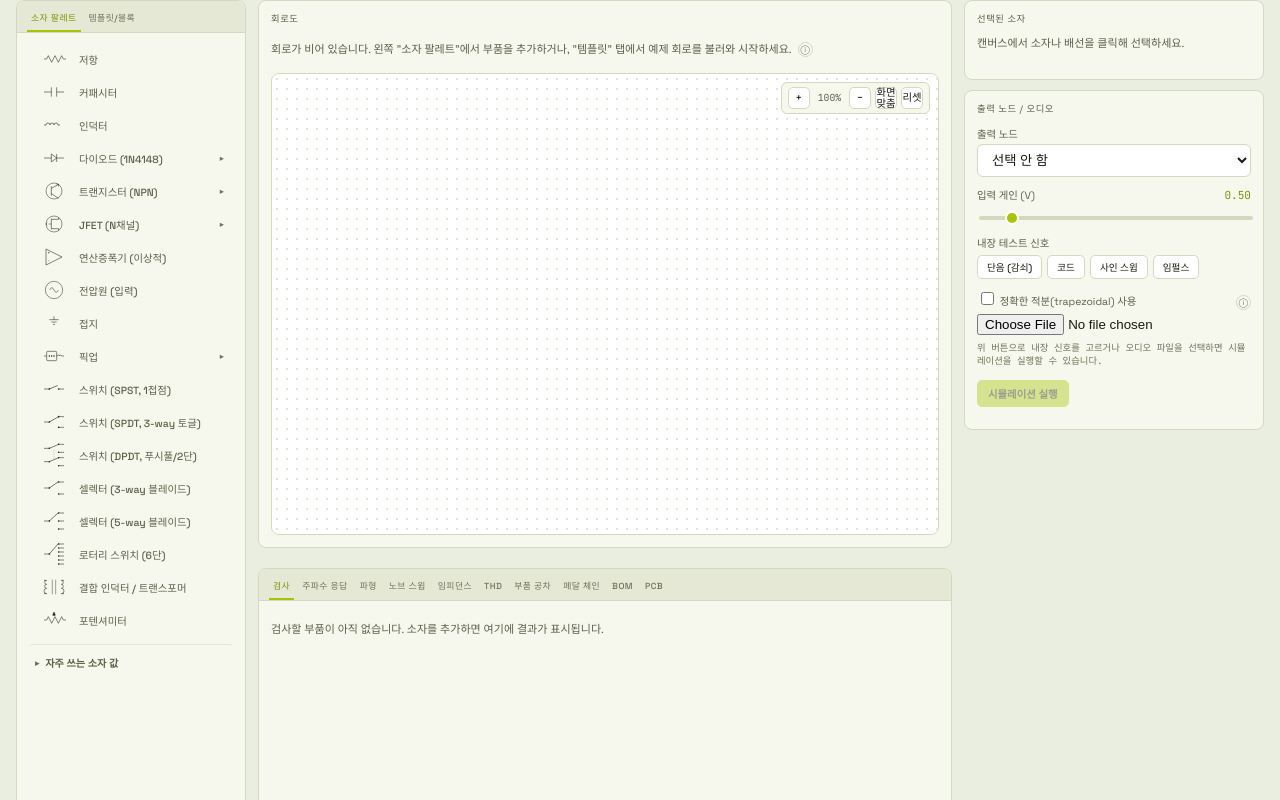
it: SchematicEditor › undo removes the just-added part and re-disables itself
The image size is (1280, 800).
(page scrolled)
Click the button "저항" at point(131, 59), box 29,43 -> 233,75
(page scrolled)
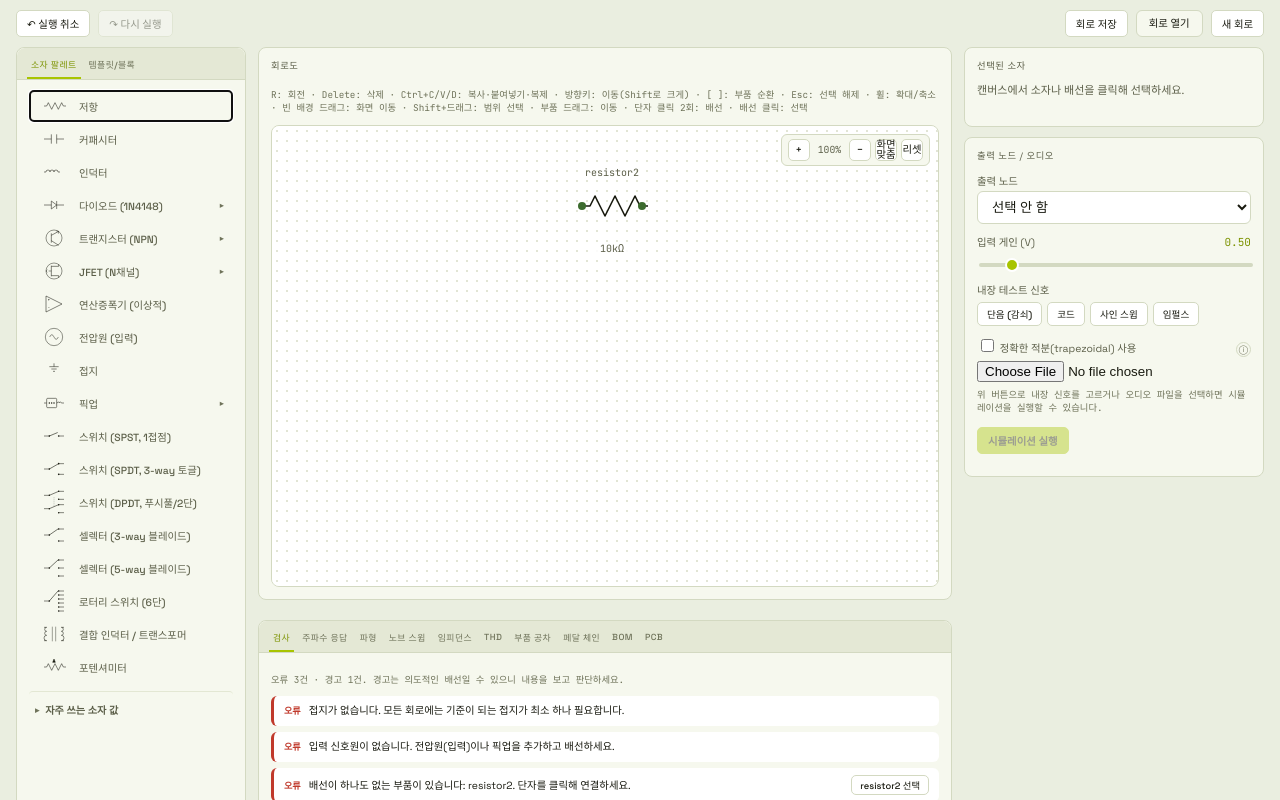
Check: the button "↶ 실행 취소" is enabled
Click the button "↶ 실행 취소" at point(53, 24), box 16,10 -> 90,37
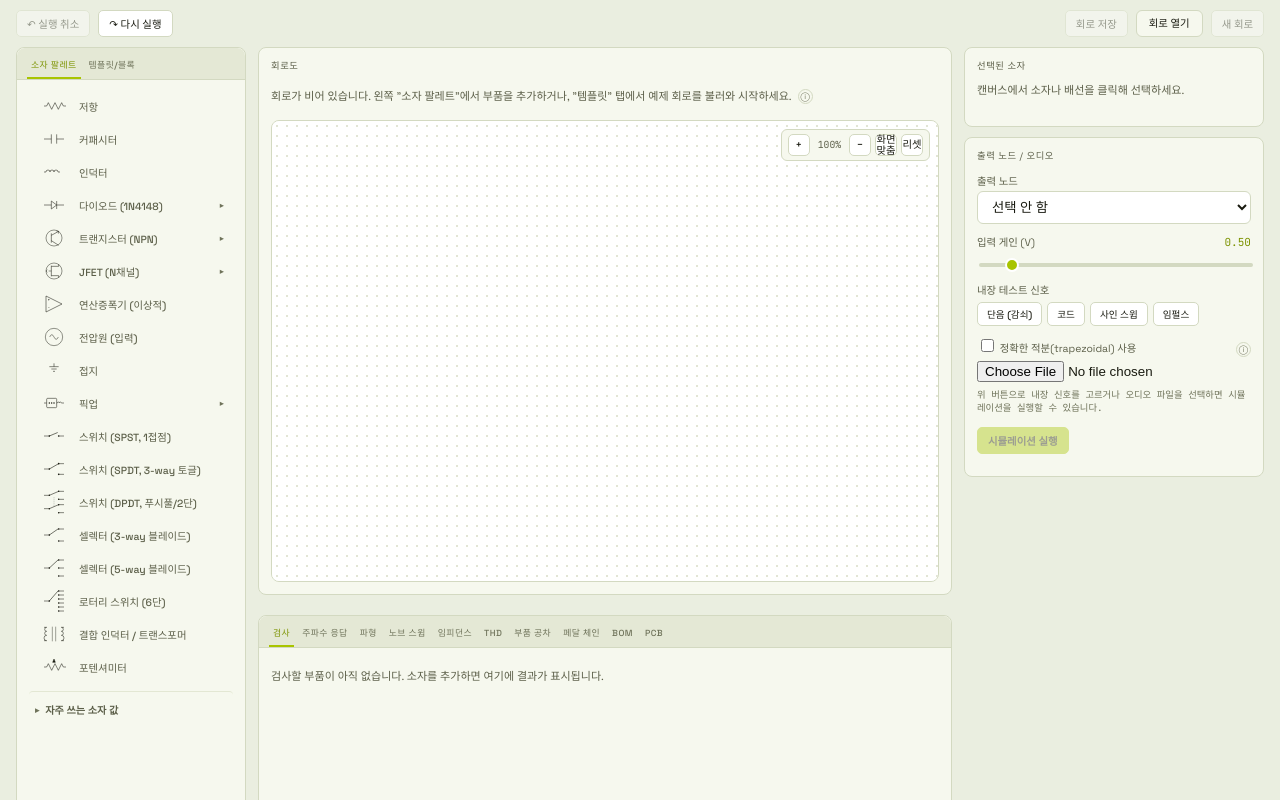
Check: the text "회로가 비어 있습니다" is shown, box 271,89 -> 792,103
Check: the button "↶ 실행 취소" is disabled, box 16,10 -> 90,37
